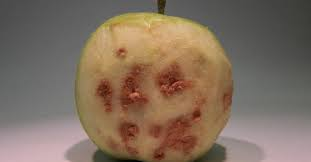damaged_apple: (73, 13, 238, 162)
